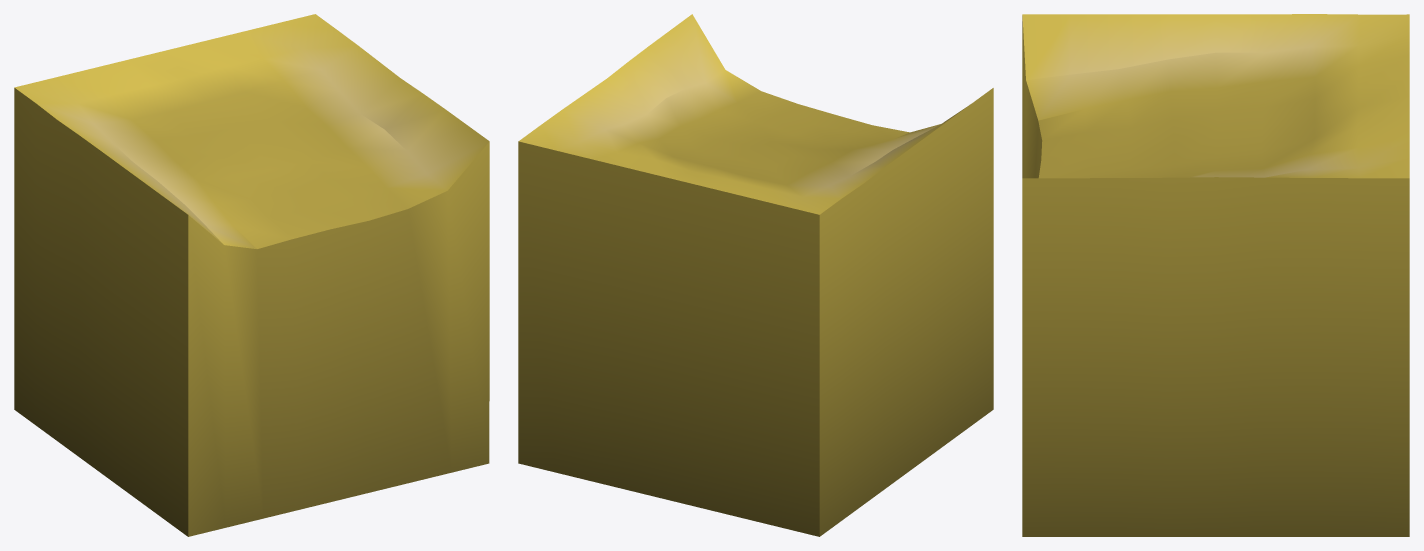
File: Riverbed1.fbx
The picture shows the model from 3 angles, left to right: view 1: azimuth 30°, elevation 25°; view 2: azimuth 150°, elevation 25°; view 3: azimuth 270°, elevation 25°; orthographic projection. The views are drawn at different scales.
Visible parts, largest first — view 1: Riverbed; view 2: Riverbed; view 3: Riverbed.
Boxes of the visible parts, x1=… form: Riverbed: x1=14, y1=14, x2=489, y2=536; Riverbed: x1=518, y1=14, x2=993, y2=536; Riverbed: x1=1022, y1=14, x2=1409, y2=536.
Size of the model in its own units: 201 by 204 by 200.
